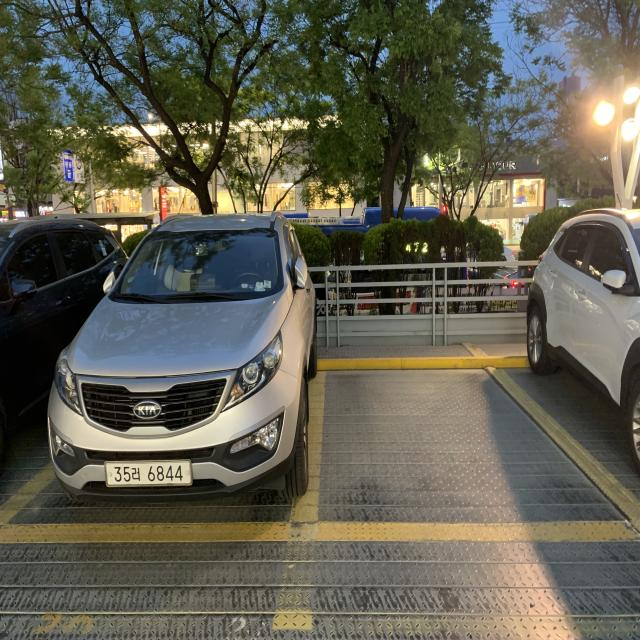empty: (304, 362, 637, 531)
occupied: (46, 215, 317, 498), (524, 211, 640, 458)
